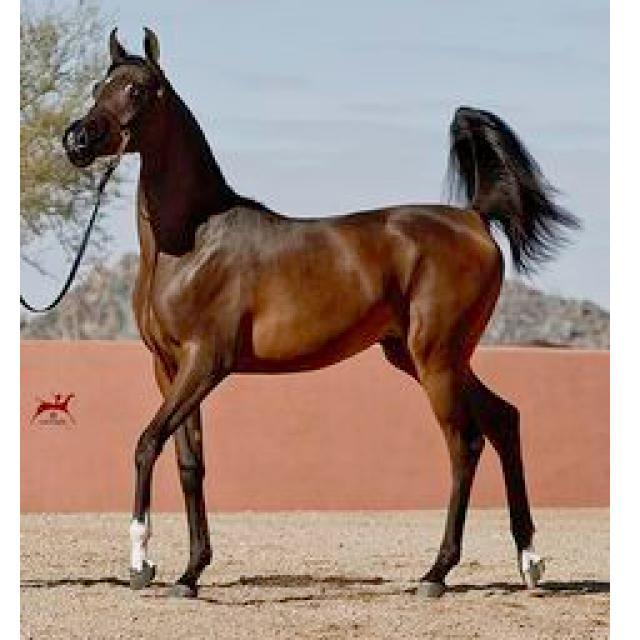Horse: (55, 22, 583, 602)
